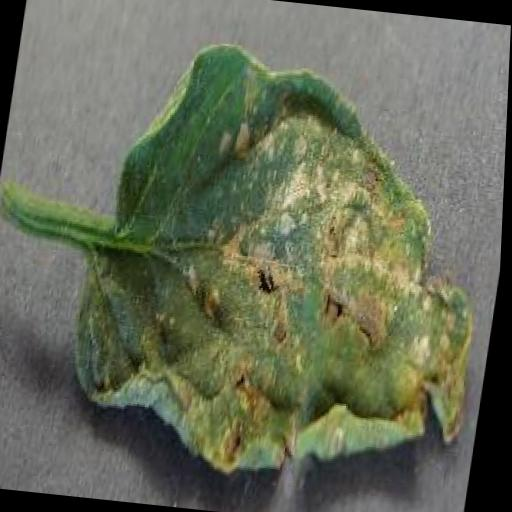Bacterial Spot: (53, 29, 511, 499)
